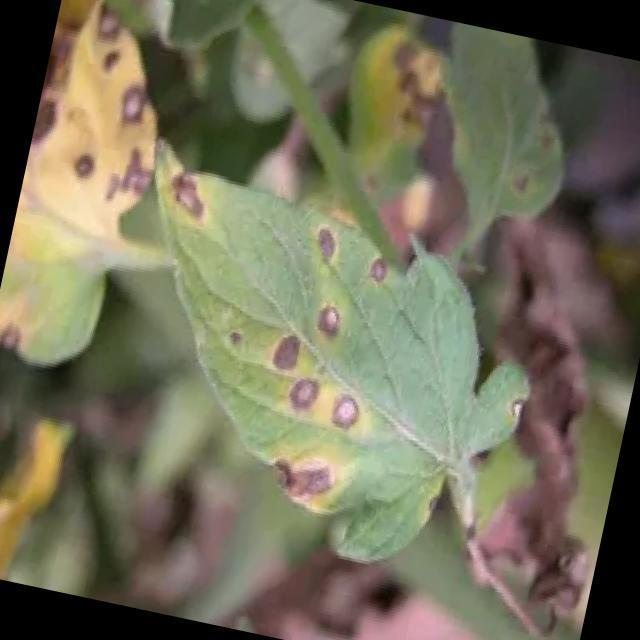Septoria: (245, 214, 410, 473), (46, 1, 164, 190)
